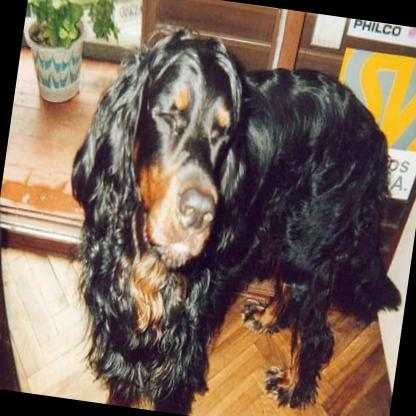Gordon_setter: (38, 12, 416, 416)
